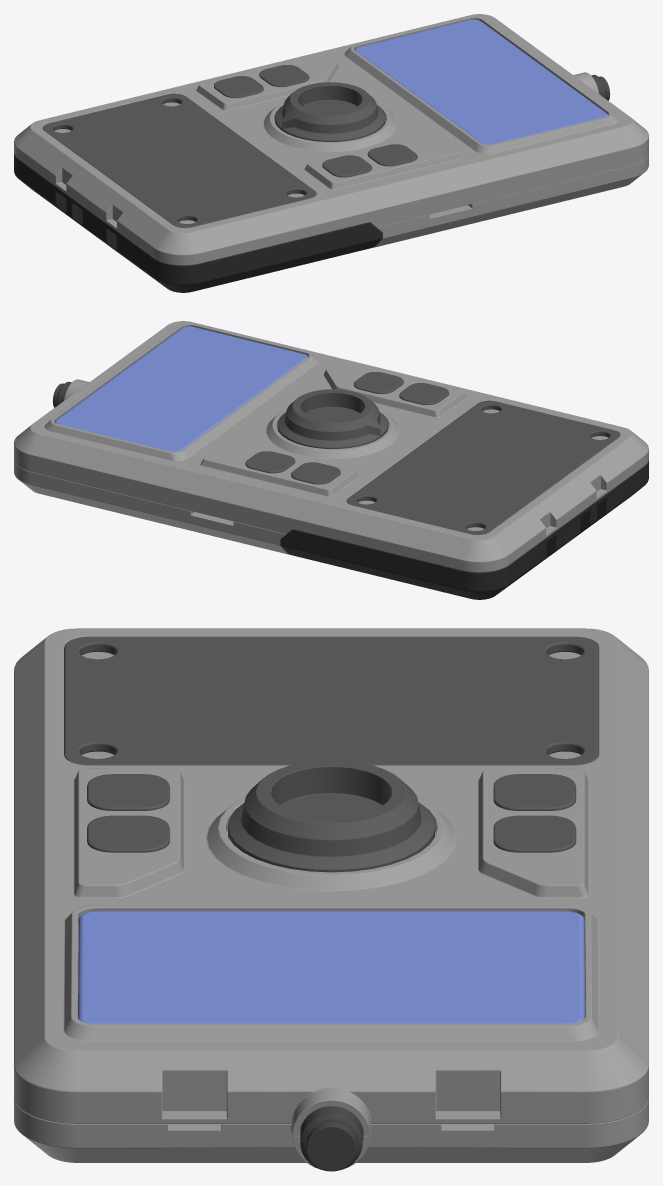
The model's file is timetraveldevice.fbx.
3 views of the same model, one above another, from view 1: azimuth 30°, elevation 25°; view 2: azimuth 150°, elevation 25°; view 3: azimuth 270°, elevation 25° (orthographic). The views are drawn at different scales.
Parts seen in each view (by area): view 1: Body; view 2: Body; view 3: Body.
Part boxes in pixels (left/top/right/bottom): Body: left=14, top=14, right=648, bottom=292; Body: left=14, top=321, right=648, bottom=599; Body: left=14, top=628, right=648, bottom=1171.
Size of the model in its own units: 3.73 by 0.6231 by 2.12.
